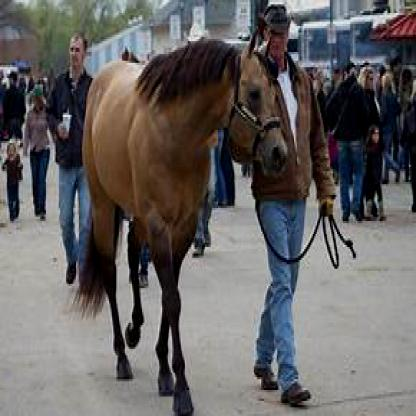horse: (79, 37, 293, 414)
